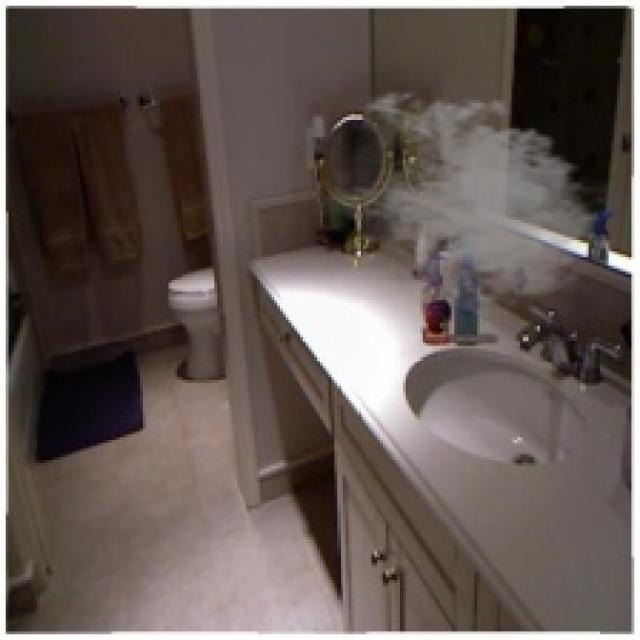Smoke: (326, 86, 608, 320)
